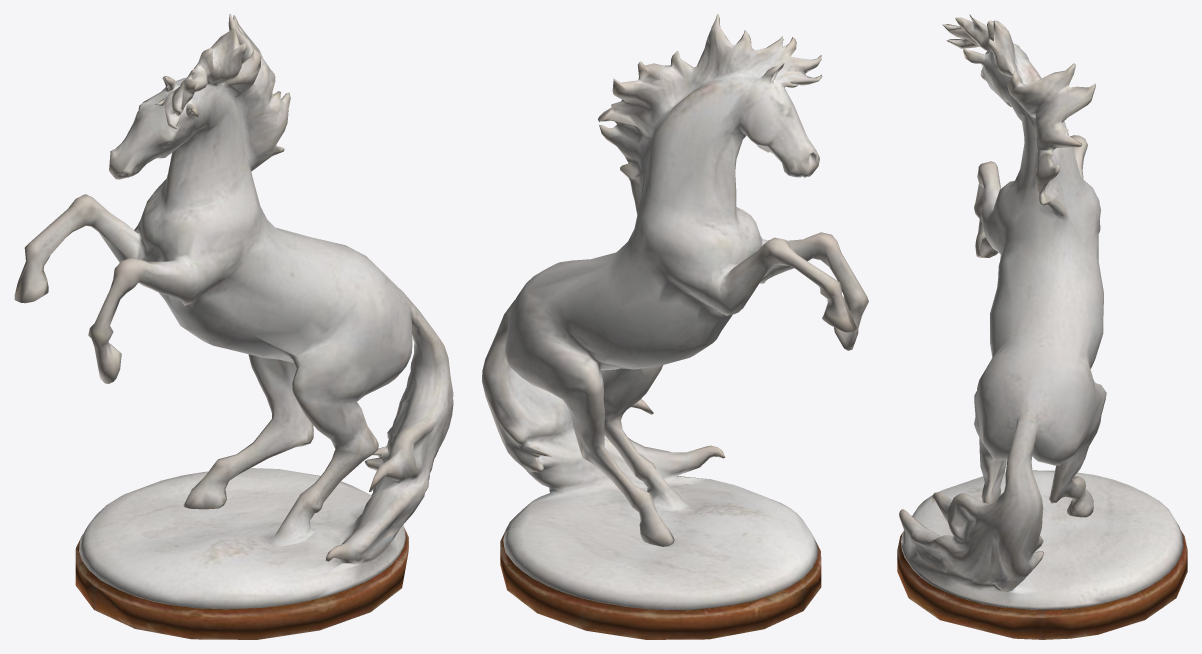
The model's file is horse.glb.
3 views of the same model, side by side, from view 1: azimuth 30°, elevation 25°; view 2: azimuth 150°, elevation 25°; view 3: azimuth 270°, elevation 25° (orthographic). The views are drawn at different scales.
Visible parts, largest first — view 1: horse_statue_01; view 2: horse_statue_01; view 3: horse_statue_01.
Boxes of the visible parts, x1,y1,x2,y2 form: horse_statue_01: (14, 14, 453, 639); horse_statue_01: (482, 14, 868, 639); horse_statue_01: (897, 14, 1187, 639).
Bounding box in the file's own units: 0.1638 × 0.2199 × 0.1078.
Materials: 1 (1 with a texture image).
